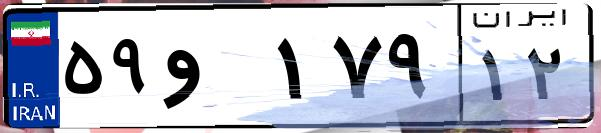1: (270, 28, 330, 110), (475, 38, 525, 113)
2: (525, 38, 570, 115)
5: (57, 26, 110, 100)
7: (330, 28, 385, 110)
9: (385, 28, 445, 110), (110, 28, 158, 98)
و: (158, 20, 270, 120)
